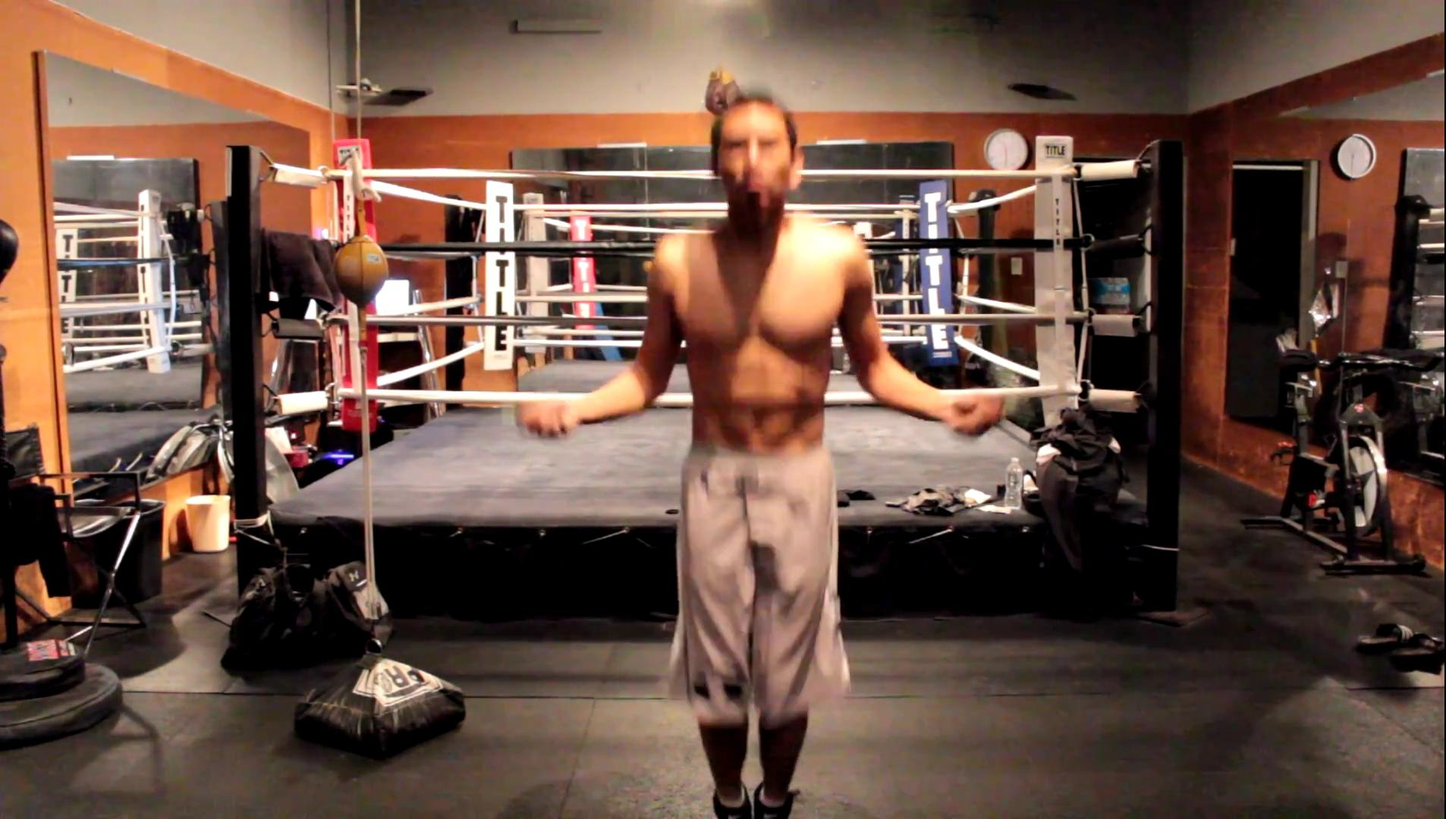victim: (513, 88, 1008, 819)
